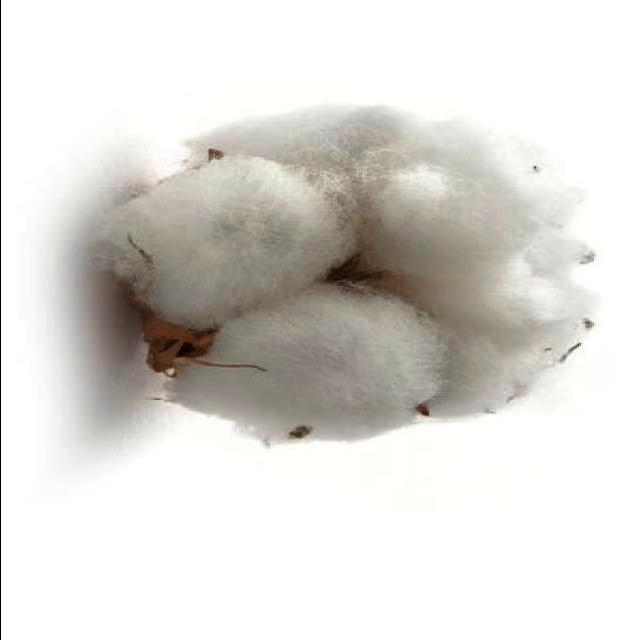Matured Cotton Boll: (77, 97, 613, 459)
